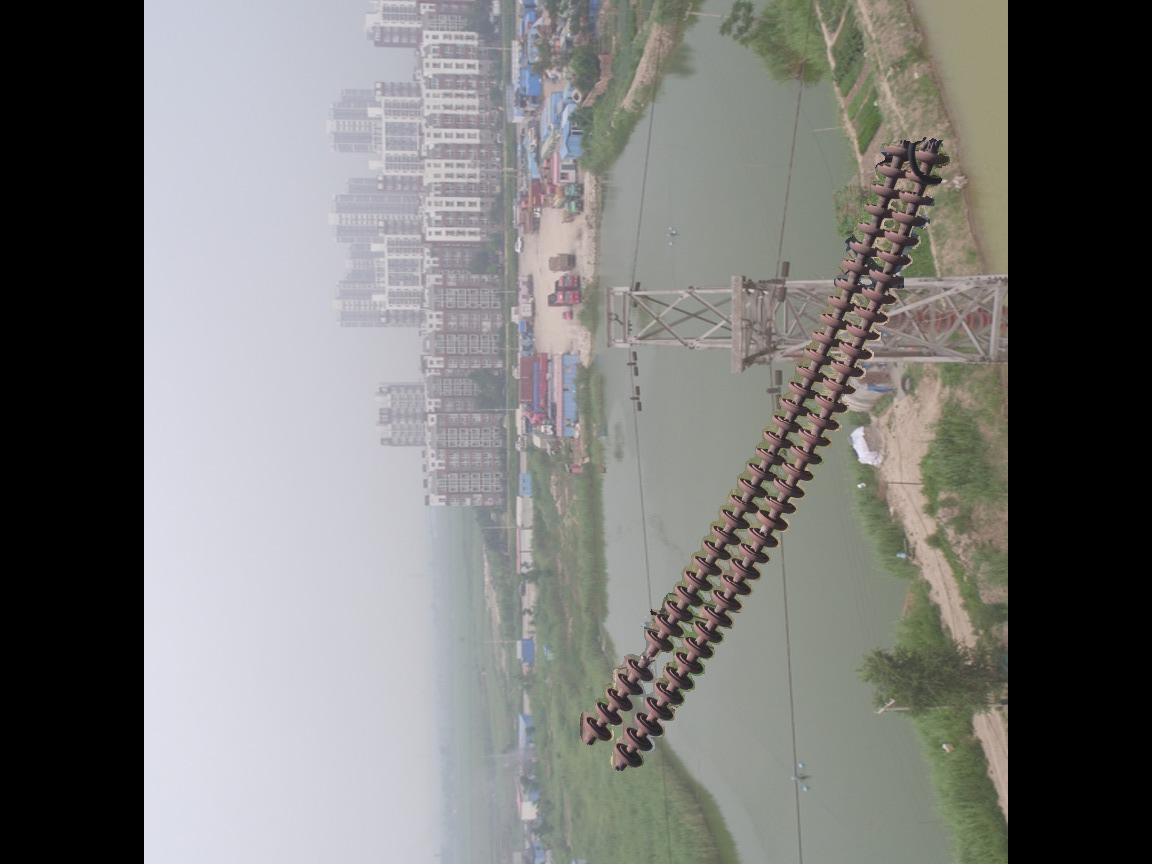insulator: (577, 135, 955, 776), (899, 298, 1005, 341)
insulator_stringdrop: (622, 626, 674, 686)
